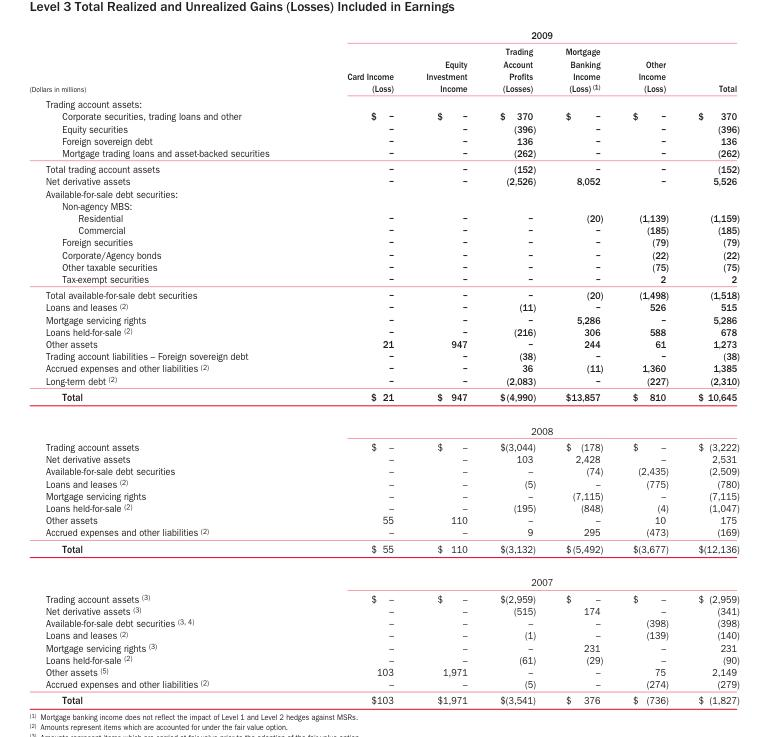table: (28, 28, 738, 706)
table column: (28, 28, 307, 706), (307, 28, 409, 706), (409, 28, 482, 706), (549, 28, 617, 706), (482, 28, 549, 706), (617, 28, 682, 706), (682, 28, 738, 706)
table column header: (28, 28, 738, 95)
table projected row header: (28, 95, 738, 109), (28, 187, 738, 199), (28, 199, 738, 211)
table row: (28, 43, 738, 95), (28, 539, 738, 565), (28, 388, 738, 413), (28, 413, 738, 438), (28, 565, 738, 590), (28, 28, 738, 43), (28, 691, 738, 706), (28, 95, 738, 109), (28, 146, 738, 160), (28, 160, 738, 174), (28, 272, 738, 286), (28, 286, 738, 300), (28, 374, 738, 388), (28, 438, 738, 452), (28, 525, 738, 539), (28, 590, 738, 604), (28, 677, 738, 691), (28, 109, 738, 122), (28, 174, 738, 187), (28, 235, 738, 248), (28, 300, 738, 313), (28, 361, 738, 374), (28, 476, 738, 489), (28, 640, 738, 653), (28, 122, 738, 134), (28, 134, 738, 146), (28, 187, 738, 199), (28, 199, 738, 211), (28, 211, 738, 223), (28, 223, 738, 235), (28, 248, 738, 260), (28, 260, 738, 272), (28, 313, 738, 325), (28, 325, 738, 337), (28, 337, 738, 349), (28, 349, 738, 361), (28, 452, 738, 464), (28, 464, 738, 476), (28, 489, 738, 501), (28, 501, 738, 513), (28, 513, 738, 525), (28, 604, 738, 616), (28, 616, 738, 628), (28, 628, 738, 640), (28, 653, 738, 665), (28, 665, 738, 677)
table spanning cell: (28, 28, 307, 95), (307, 413, 738, 438), (307, 565, 738, 590), (307, 28, 738, 43)
